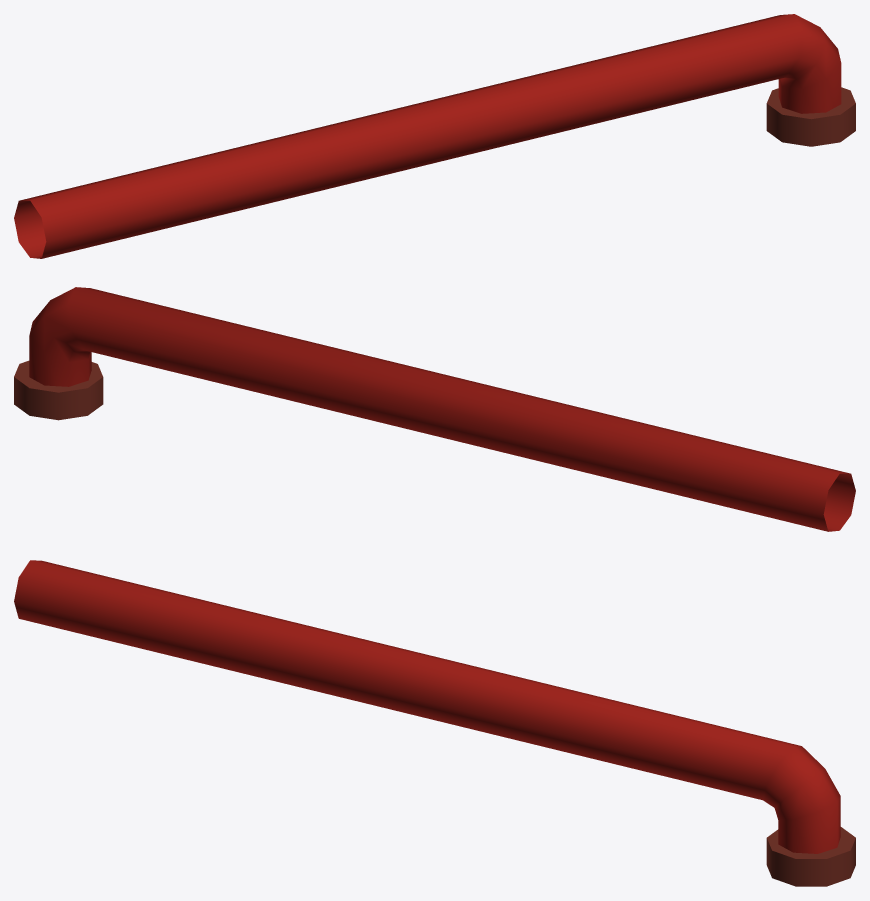
File: Pipe_1_E_2_3.glb
The picture shows the model from 3 angles, top to bottom: view 1: azimuth 30°, elevation 25°; view 2: azimuth 150°, elevation 25°; view 3: azimuth 330°, elevation 25°; orthographic projection.
Visible parts, largest first — view 1: Pipe_1_E_2_3; view 2: Pipe_1_E_2_3; view 3: Pipe_1_E_2_3.
Boxes of the visible parts, <box> form: Pipe_1_E_2_3: <box>14,14,855,258</box>; Pipe_1_E_2_3: <box>14,287,855,531</box>; Pipe_1_E_2_3: <box>14,560,855,886</box>.
Bounding box in the file's own units: 3.2 × 0.4392 × 0.3012.
Materials: 1 (1 with a texture image).
